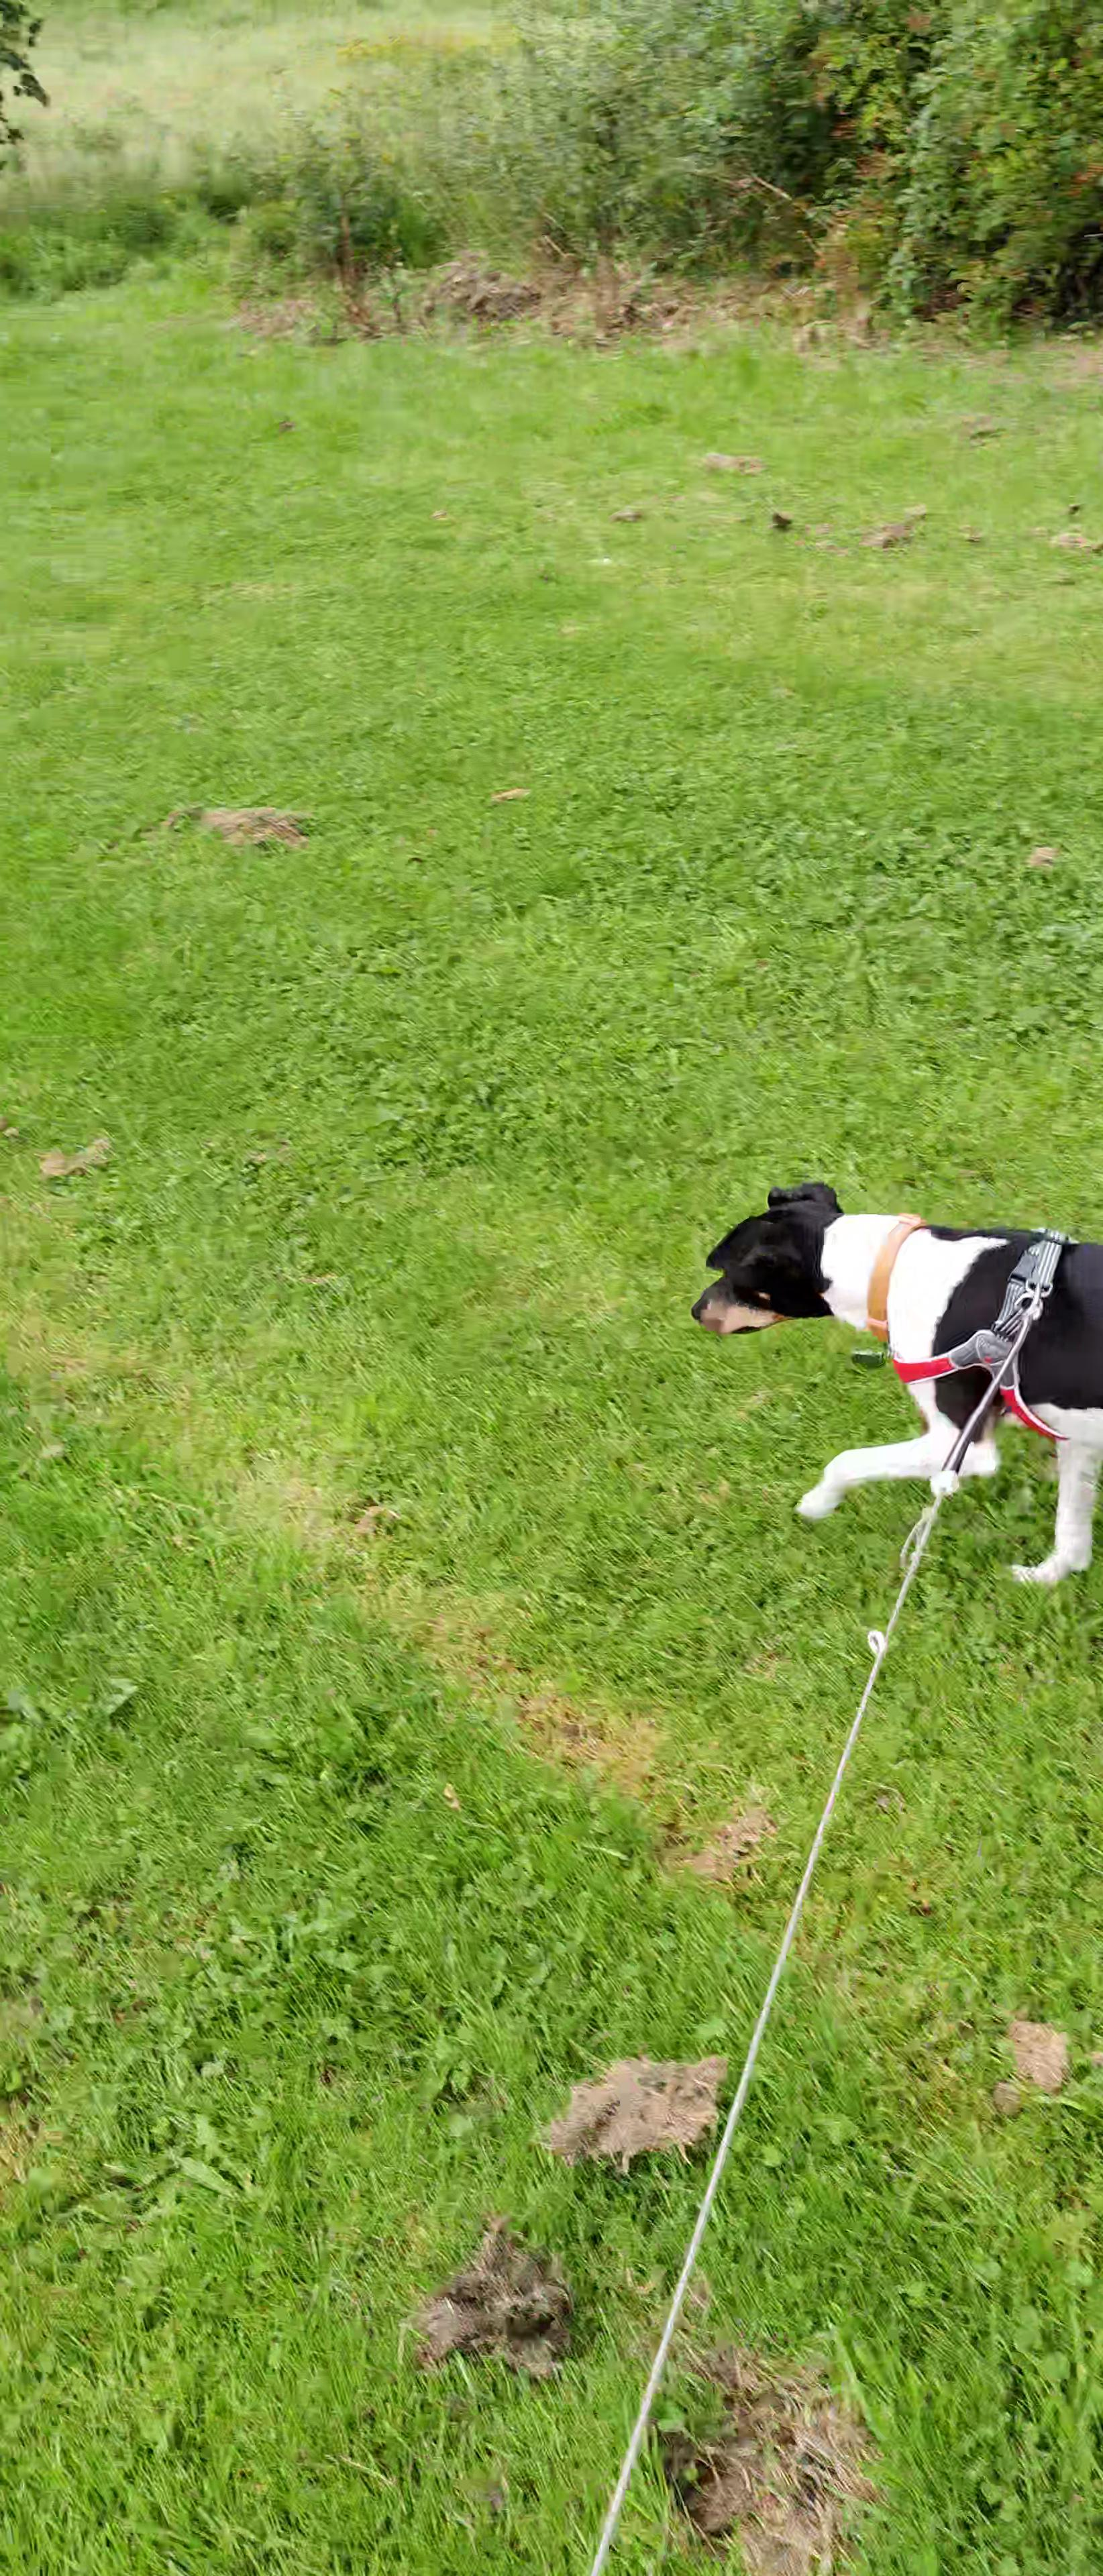Dog: (671, 1160, 1103, 1600)
